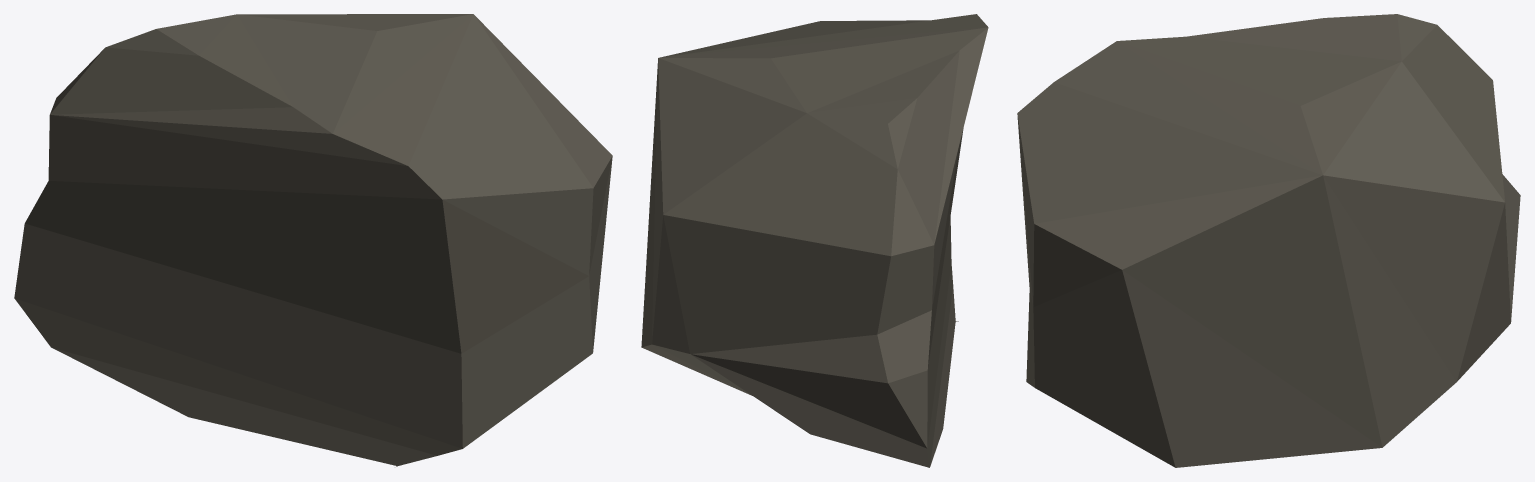
The model's file is synty-rock-01.gltf.
The picture shows the model from 3 angles, left to right: view 1: azimuth 30°, elevation 25°; view 2: azimuth 150°, elevation 25°; view 3: azimuth 270°, elevation 25°; orthographic projection. The views are drawn at different scales.
Parts seen in each view (by area): view 1: SM_Rock_01; view 2: SM_Rock_01; view 3: SM_Rock_01.
Boxes of the visible parts, x1,y1,x2,y2 form: SM_Rock_01: (14, 14, 612, 466); SM_Rock_01: (641, 14, 988, 467); SM_Rock_01: (1017, 14, 1520, 467).
Bounding box in the file's own units: 0.3265 × 0.2681 × 0.3502.
Materials: 1 (1 with a texture image).
